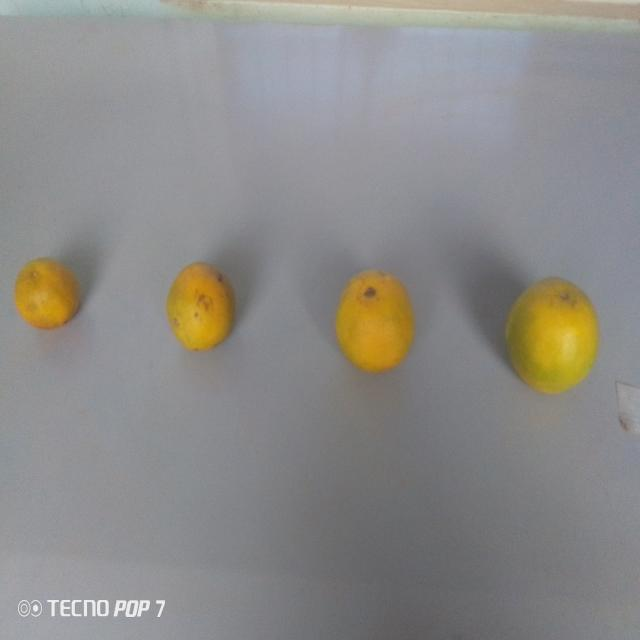Ripe orange: (500, 267, 602, 404), (332, 267, 419, 374), (157, 248, 238, 356), (13, 251, 74, 327)
